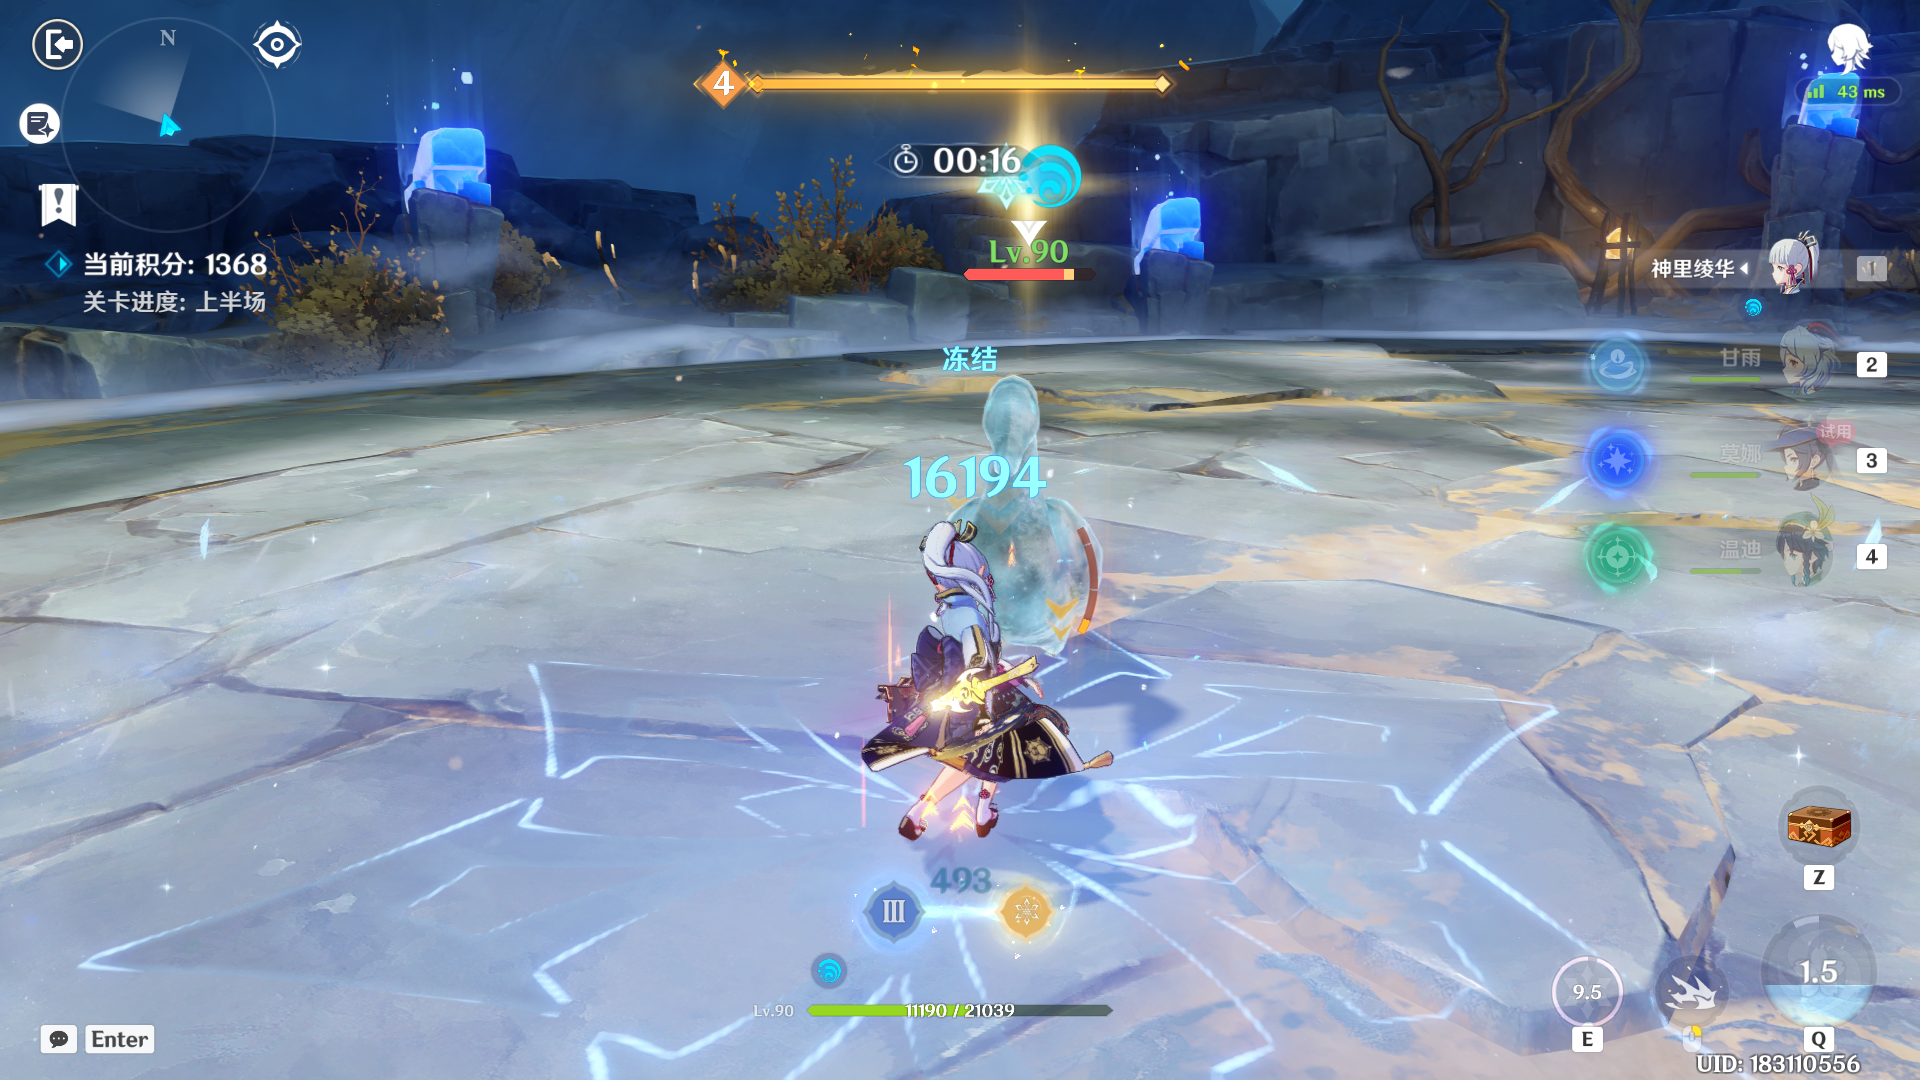character: (820, 495, 1126, 877)
